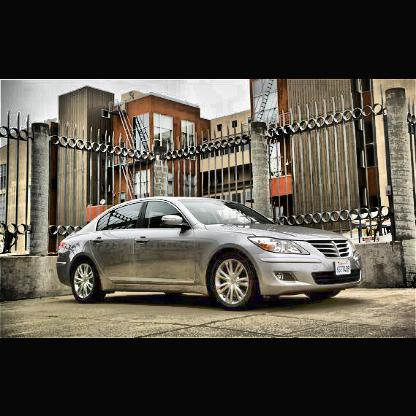Hyundai Genesis Sedan 2012: (54, 193, 366, 314)
